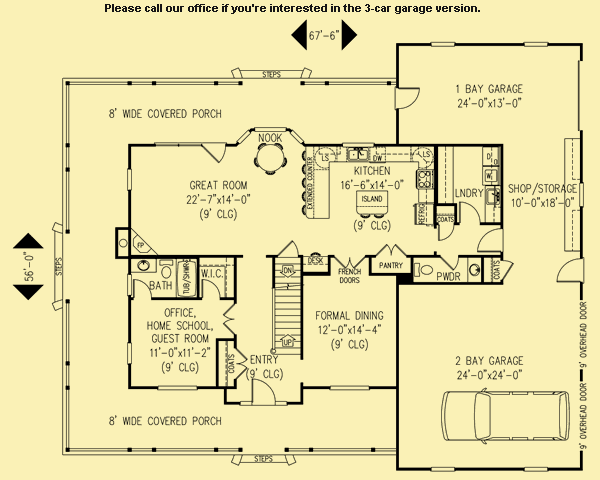bathroom has a small and large sink and bathtub: (127, 255, 200, 302)
laundry room has washer and dryer: (433, 145, 504, 226)
small bathroom has sink and large sink: (411, 254, 484, 286)
there is a garage outside with one car parking: (398, 341, 579, 469)
there is a kitchen which has a cooking range, kitchen island, sink: (302, 144, 437, 236)
